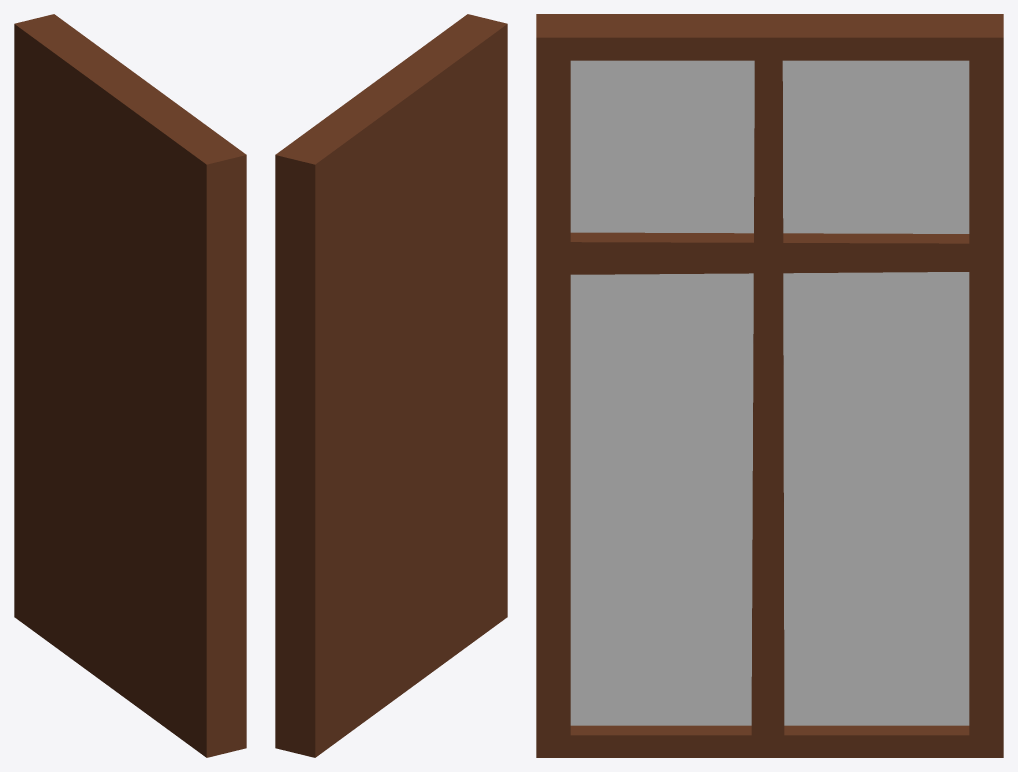
The model's file is window6.glb.
3 views of the same model, side by side, from view 1: azimuth 30°, elevation 25°; view 2: azimuth 150°, elevation 25°; view 3: azimuth 270°, elevation 25° (orthographic). The views are drawn at different scales.
Visible parts, largest first — view 1: big window 3; view 2: big window 3; view 3: big window 3.
Part boxes in pixels (box(x1,y1,x2,y2)): big window 3: box(14, 14, 246, 757); big window 3: box(275, 14, 507, 757); big window 3: box(536, 14, 1003, 757).
Size of the model in its own units: 0.2225 by 3.15 by 1.85.
